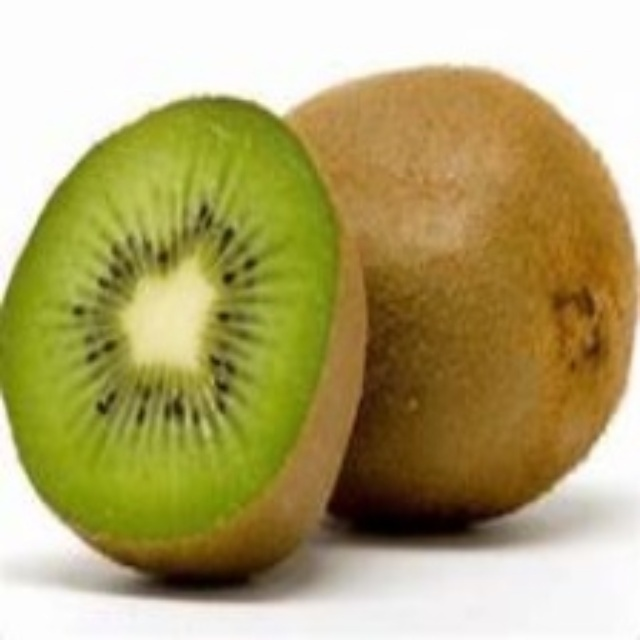kiwi: (4, 83, 369, 594), (301, 73, 639, 546)
